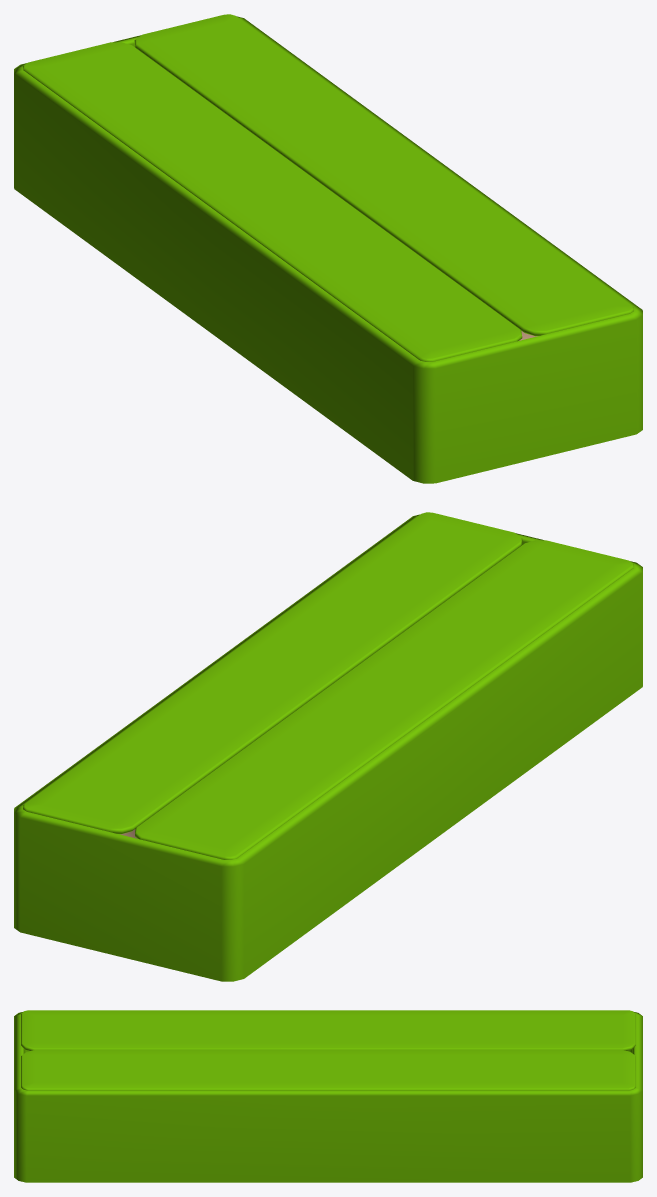
The model's file is Green_Box.fbx.
3 renders of one model, top to bottom at view 1: azimuth 30°, elevation 25°; view 2: azimuth 150°, elevation 25°; view 3: azimuth 270°, elevation 25°, orthographic. The views are drawn at different scales.
Parts seen in each view (by area): view 1: Greenbox, Yellowbox7, Yellowbox6; view 2: Greenbox, Yellowbox7, Yellowbox6; view 3: Greenbox, Yellowbox7, Yellowbox6.
Boxes of the visible parts, x1,y1,x2,y2 form: Greenbox: (14, 16, 642, 483); Yellowbox7: (134, 14, 633, 336); Yellowbox6: (23, 42, 522, 361); Greenbox: (14, 514, 642, 981); Yellowbox7: (23, 512, 522, 834); Yellowbox6: (135, 540, 633, 859); Greenbox: (14, 1011, 642, 1182); Yellowbox7: (21, 1050, 635, 1090); Yellowbox6: (21, 1010, 635, 1050).
Bounding box in the file's own units: 252 × 126 × 788.
